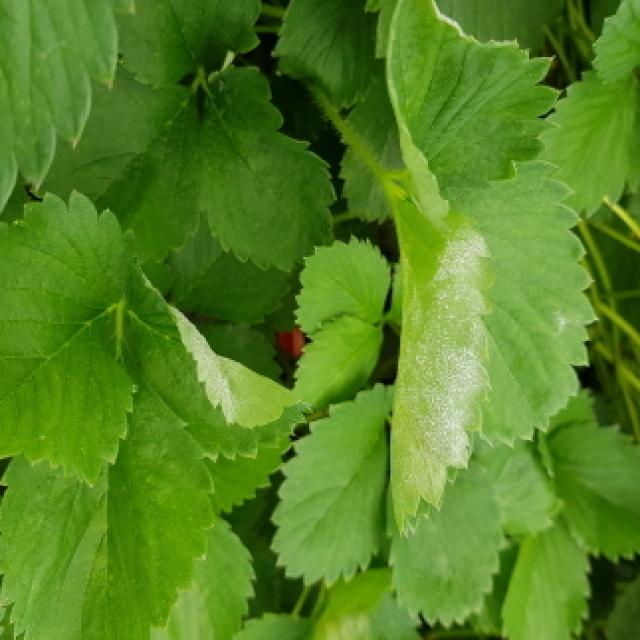Powdery Mildew Leaf: (450, 158, 603, 450), (383, 0, 565, 231), (381, 171, 495, 538), (130, 265, 315, 463)
